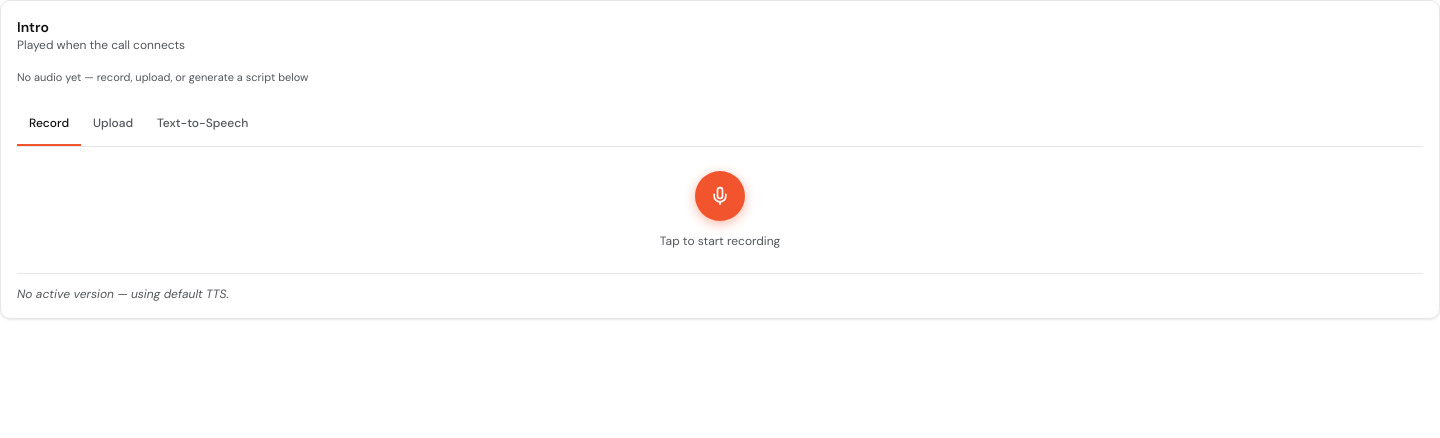
Test: AudioSlotCard — live campaign › reports the server's own reason when a text-to-speech save is refused
Click the tab "Text-to-Speech": (203, 124) top-left (145, 102), bottom-right (260, 146)
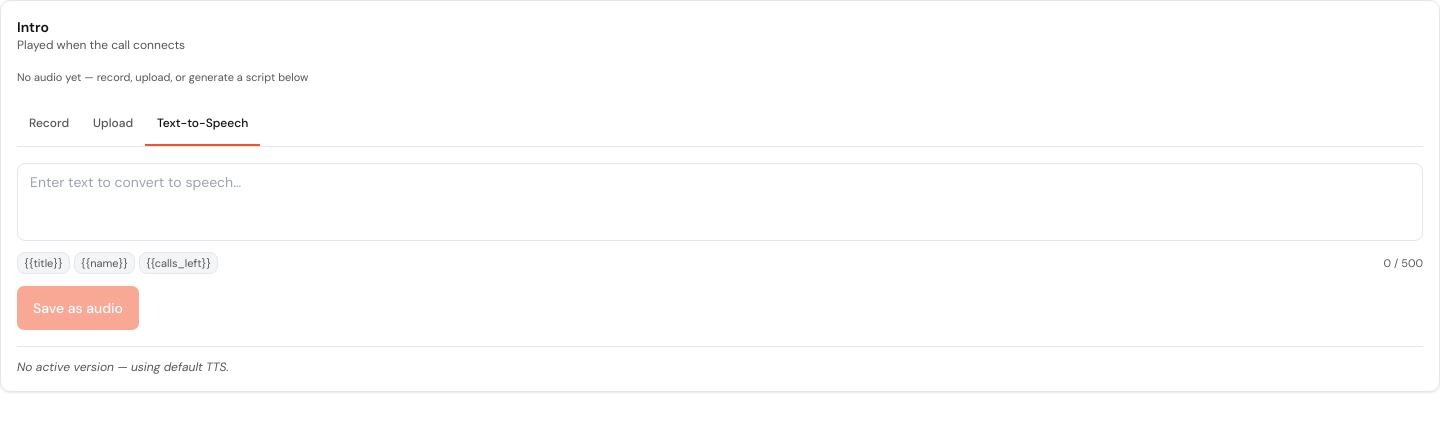
In the text box with placeholder "Enter text to convert to speech…": (720, 202) top-left (17, 162), bottom-right (1423, 240), type "A new script"
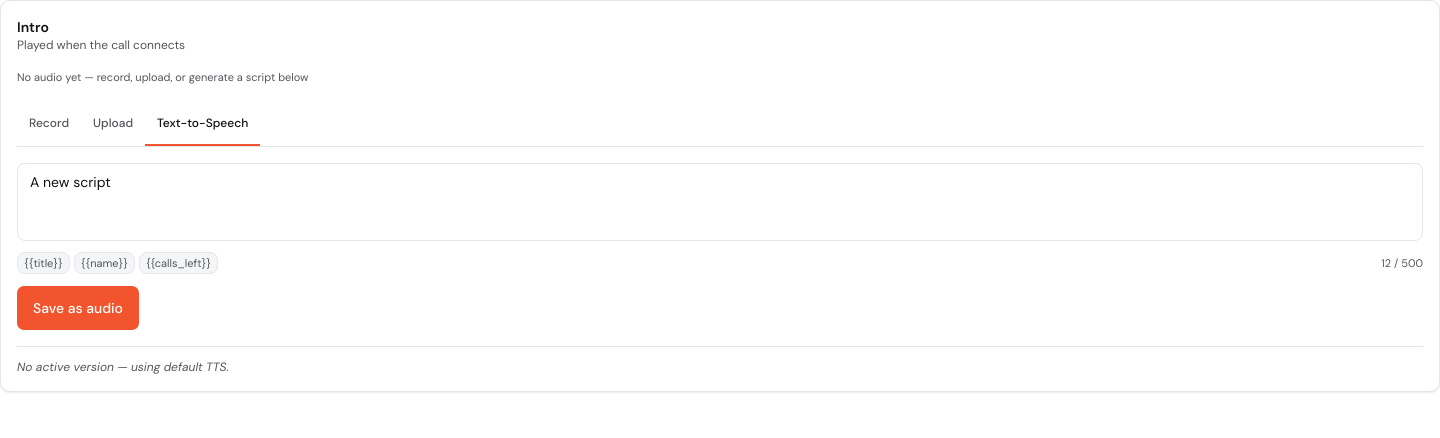
Click the button "Save as audio": (78, 308) top-left (17, 286), bottom-right (139, 330)
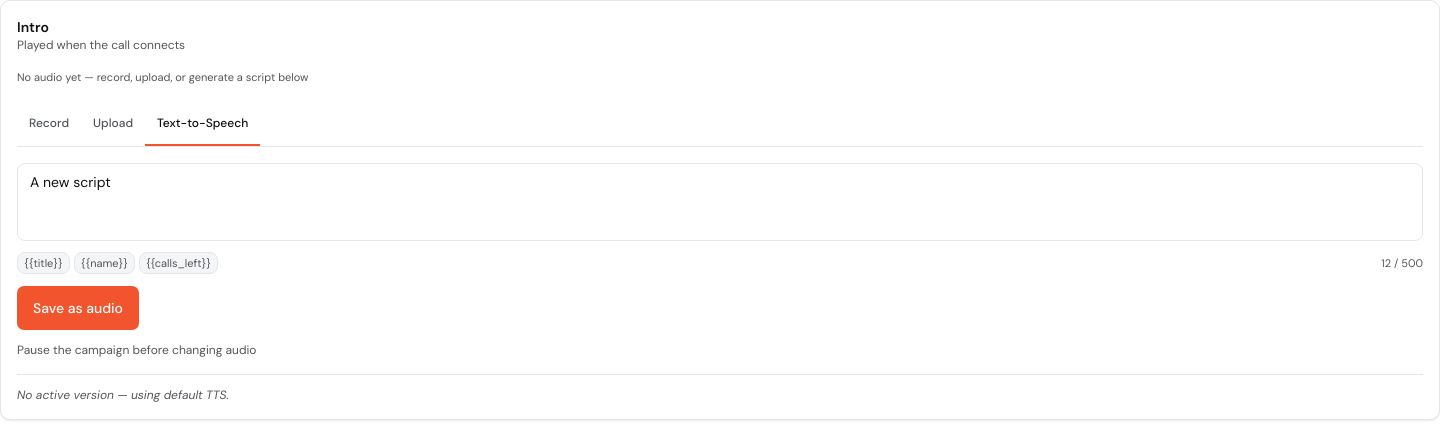
expect the text "Pause the campaign before changing audio" is shown: met, box top-left (17, 342), bottom-right (256, 358)
